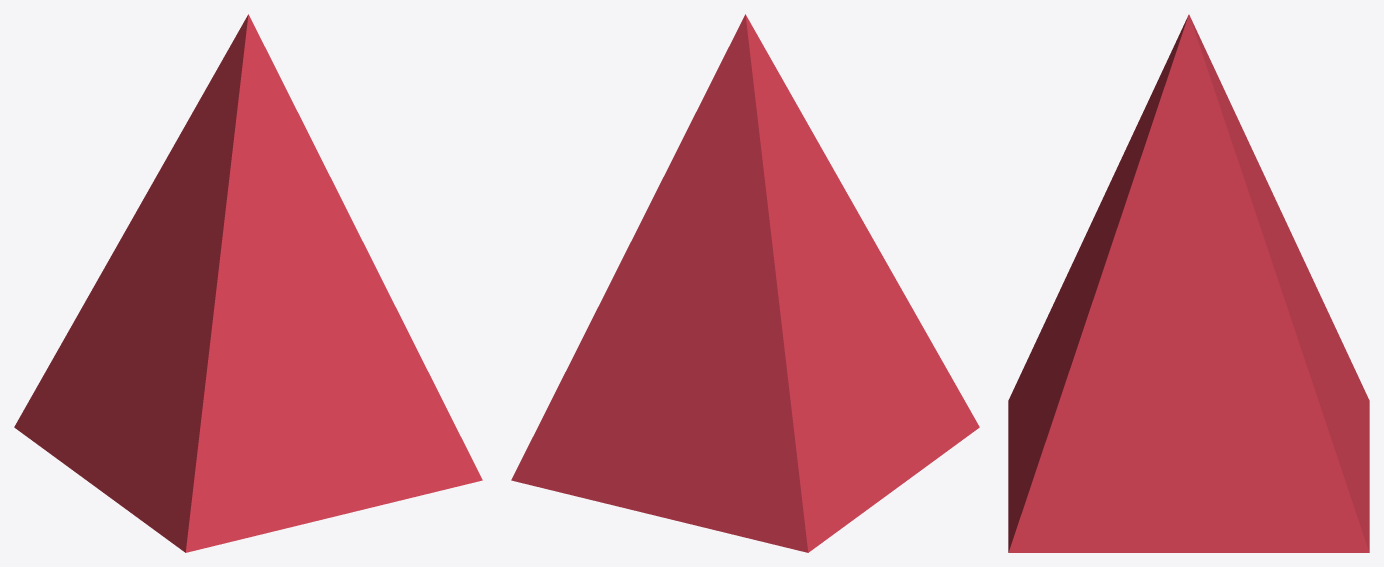
The model's file is pyramid_red.fbx.
The picture shows the model from 3 angles, left to right: view 1: azimuth 30°, elevation 25°; view 2: azimuth 150°, elevation 25°; view 3: azimuth 270°, elevation 25°; orthographic projection. The views are drawn at different scales.
Visible parts, largest first — view 1: Cone.002; view 2: Cone.002; view 3: Cone.002.
Boxes of the visible parts, bbox=[...] form: Cone.002: bbox=[14, 14, 482, 552]; Cone.002: bbox=[511, 14, 979, 552]; Cone.002: bbox=[1008, 14, 1369, 552].
Bounding box in the file's own units: 141 × 200 × 141.
